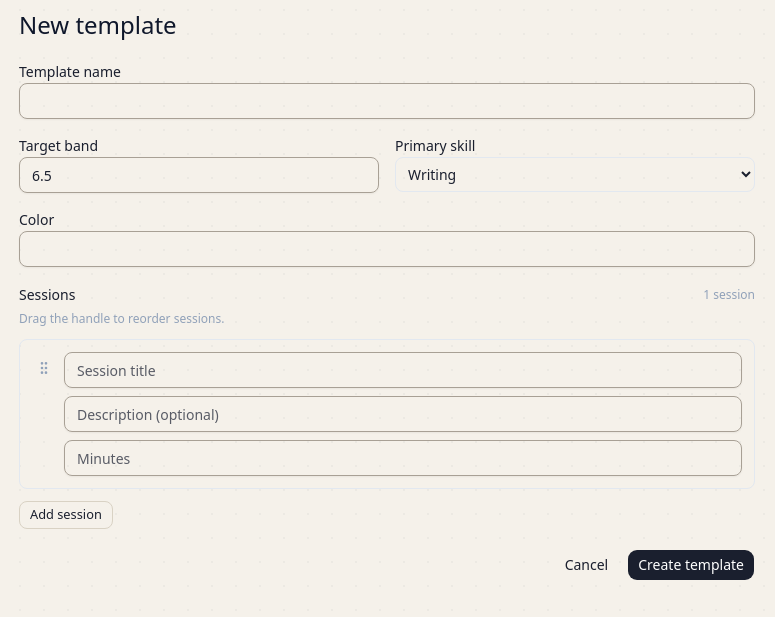
Scenario: TemplateFormPage (s21) — create › blocks submit with an empty name (inline validation, no POST)
In the field with test id "template-session-title-0": {"x": 403, "y": 370} [64,352,742,388], type "Only session"
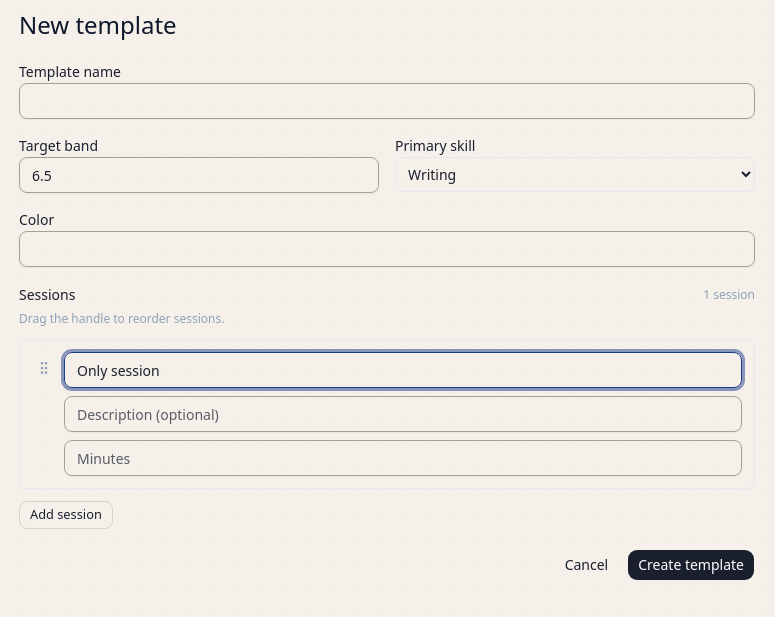
Click the button with test id "template-form-save": {"x": 691, "y": 565} [627,549,755,581]
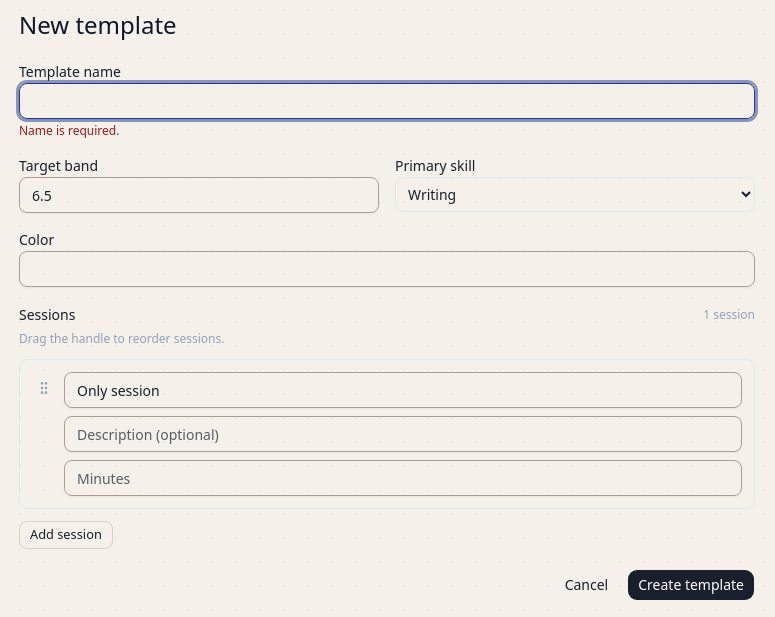
Result: the text "Name is required." is shown at [19,122,119,139]
